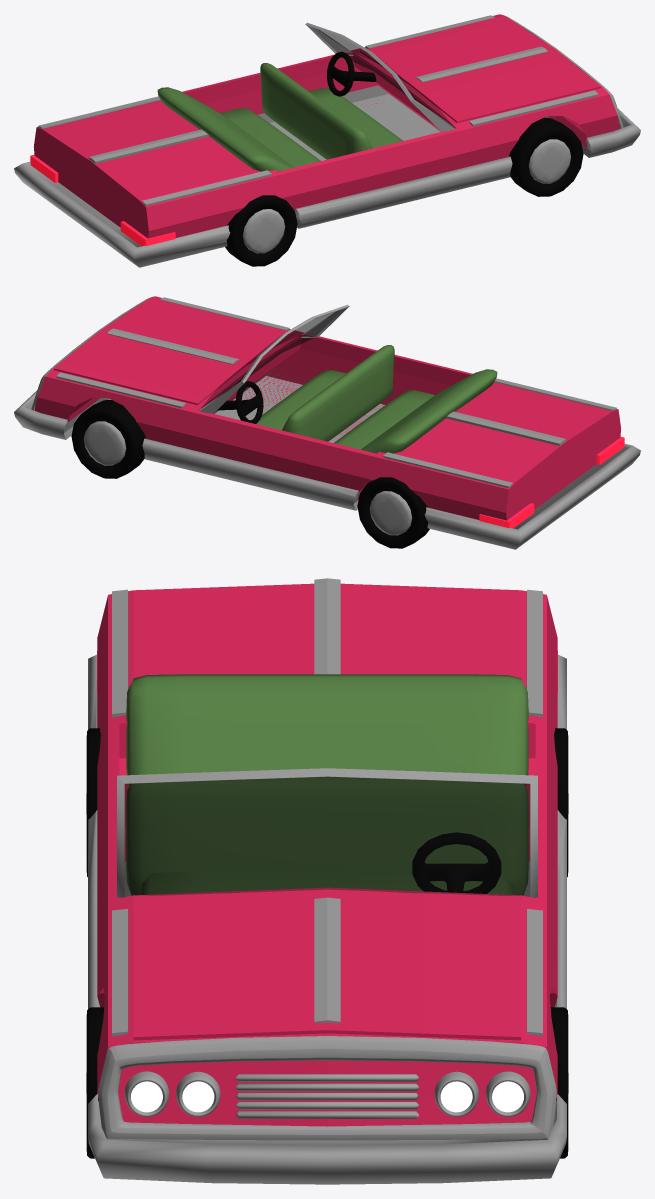
Rendered from kashafareed.glb.
3 renders of one model, top to bottom at view 1: azimuth 30°, elevation 25°; view 2: azimuth 150°, elevation 25°; view 3: azimuth 270°, elevation 25°, orthographic. The views are drawn at different scales.
Parts seen in each view (by area): view 1: Body, Hood, Bumper, Seat_back_a, Wheel_FR, Wheel_RR, WindShield, SteeringWheel, FrontGrill_Frame; view 2: Body, Hood, Bumper, Seat_back_a, Wheel_FL, Wheel_RL, WindShield, SteeringWheel, FrontGrill_Frame; view 3: Seat_back_a, Body, Hood, WindShield, Bumper, FrontGrill_Frame, Grill, Lights, SteeringWheel, Wheel_FL, Wheel_FR, Wheel_RL (+1 smaller).
Boxes of the visible parts, x1,y1,x2,y2 form: Body: (30,14,620,246); Hood: (360,15,600,122); Bumper: (14,85,640,267); Seat_back_a: (157,63,402,171); Wheel_FR: (509,118,583,196); Wheel_RR: (225,195,297,266); WindShield: (305,22,455,131); SteeringWheel: (327,51,376,96); FrontGrill_Frame: (502,14,623,128); Body: (34,296,624,528); Hood: (54,297,294,404); Bumper: (14,368,640,549); Seat_back_a: (256,345,497,453); Wheel_FL: (71,400,145,478); Wheel_RL: (357,477,429,548); WindShield: (199,304,349,413); SteeringWheel: (217,381,263,423); FrontGrill_Frame: (31,296,152,410); Seat_back_a: (126,674,528,895); Body: (97,578,557,1126); Hood: (133,889,521,1040); WindShield: (117,768,537,897); Bumper: (88,654,566,1184); FrontGrill_Frame: (98,1036,556,1140); Grill: (236,1074,418,1118); Lights: (124,1071,530,1116); SteeringWheel: (412,832,501,893); Wheel_FL: (550,1007,568,1158); Wheel_FR: (86,1007,104,1158); Wheel_RL: (554,728,568,876).
Bounding box in the file's own units: 4.87 × 1.19 × 1.97.
